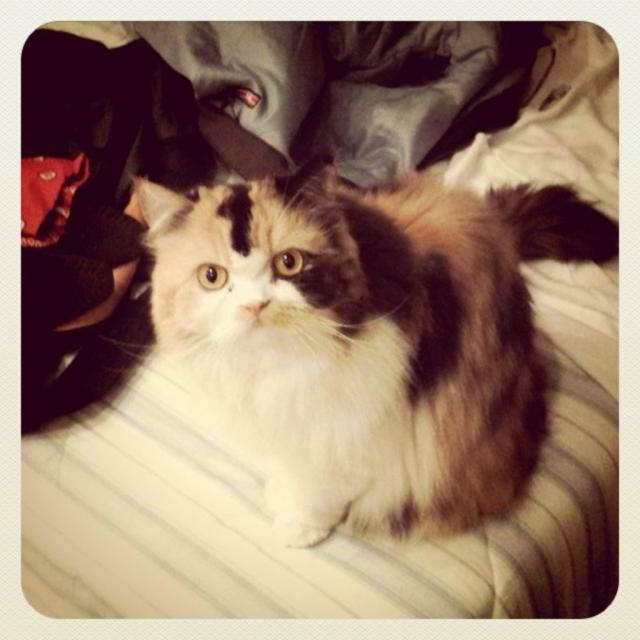Cat: (96, 145, 618, 549)
